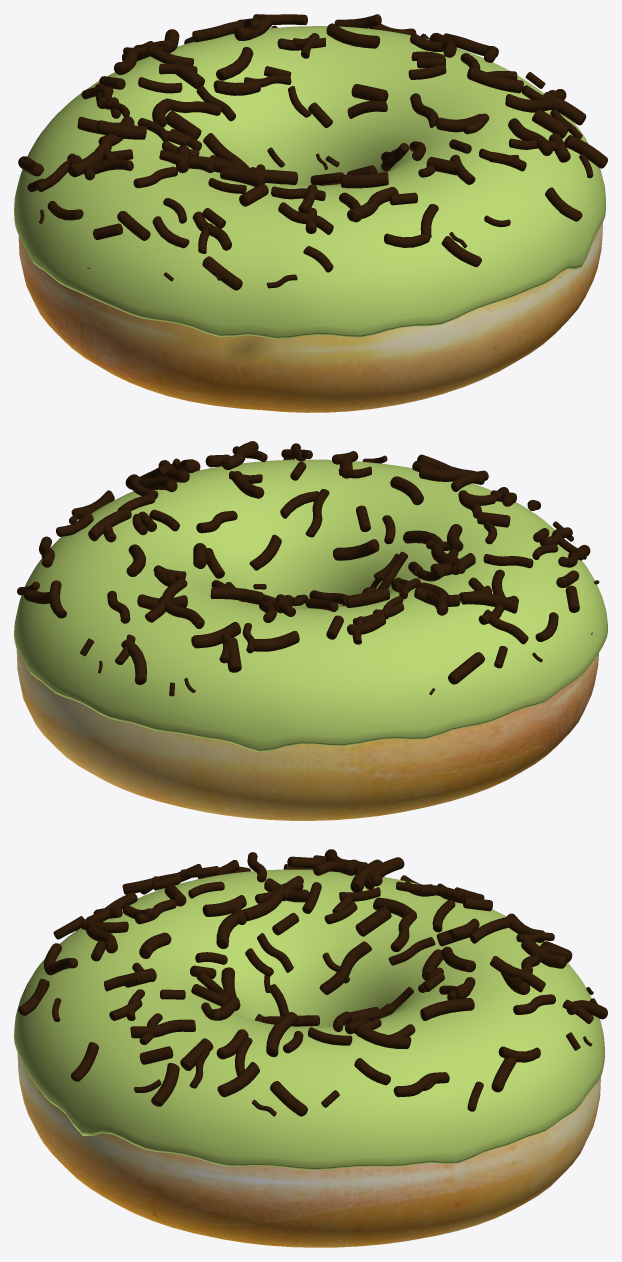
File: pistachio chocolate vermicheli.glb
The picture shows the model from 3 angles, top to bottom: view 1: azimuth 30°, elevation 25°; view 2: azimuth 150°, elevation 25°; view 3: azimuth 270°, elevation 25°; orthographic projection. The views are drawn at different scales.
Parts seen in each view (by area): view 1: pustachio, var chocolate, Torus; view 2: pustachio, Torus, var chocolate; view 3: pustachio, var chocolate, Torus.
Part boxes in pixels (bbox=[...]): pustachio: bbox=[14, 26, 605, 339]; var chocolate: bbox=[18, 14, 607, 290]; Torus: bbox=[18, 222, 602, 412]; pustachio: bbox=[14, 459, 607, 752]; Torus: bbox=[16, 649, 598, 820]; var chocolate: bbox=[17, 441, 599, 696]; pustachio: bbox=[14, 869, 604, 1170]; var chocolate: bbox=[18, 849, 607, 1116]; Torus: bbox=[17, 1052, 600, 1247].
Bounding box in the file's own units: 0.1988 × 0.0811 × 0.198.
3 materials, 1 textured.
